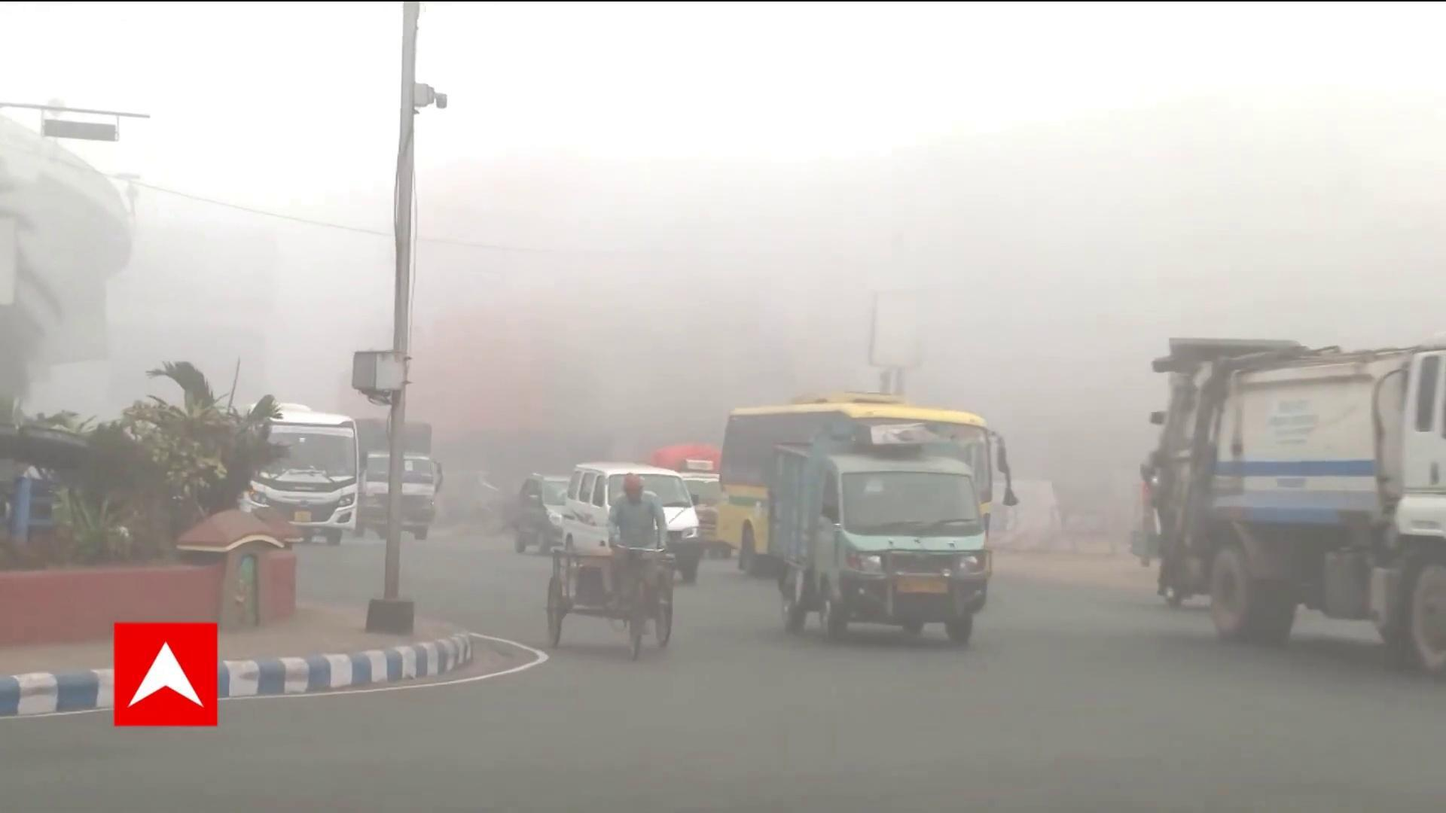Bus: (725, 392, 1003, 576)
Car: (559, 456, 702, 588)
Truck: (1154, 339, 1446, 659), (763, 414, 995, 644)
